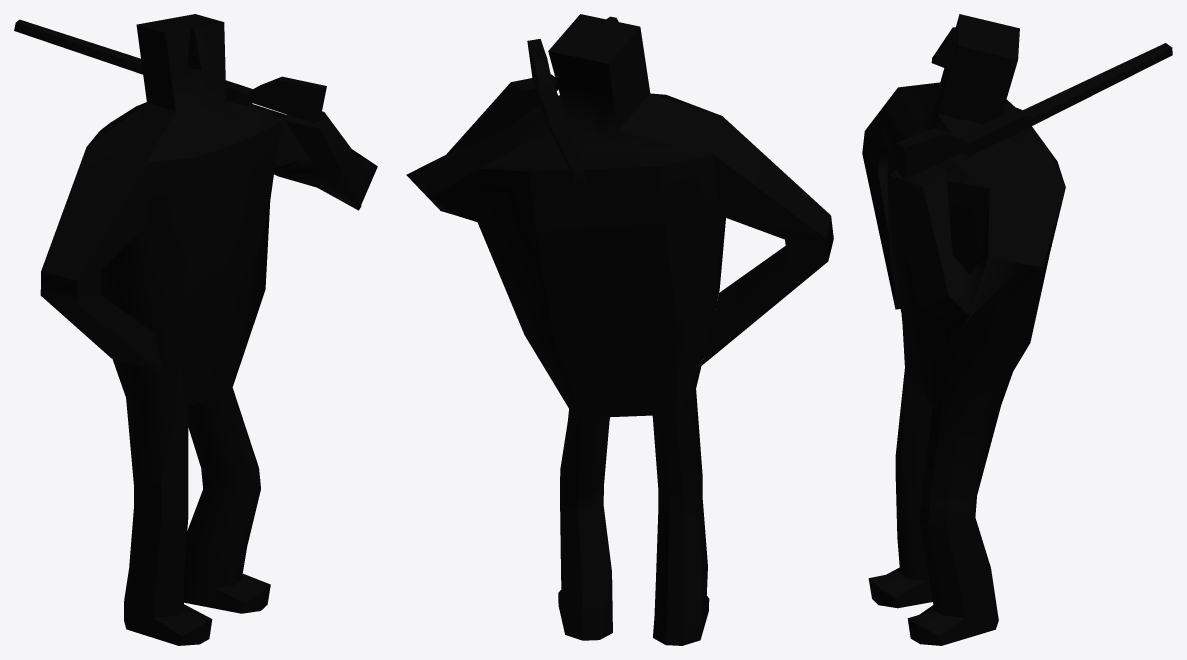
Rendered from hunter_mesh.fbx.
3 renders of one model, left to right at view 1: azimuth 30°, elevation 25°; view 2: azimuth 150°, elevation 25°; view 3: azimuth 270°, elevation 25°, orthographic. The views are drawn at different scales.
Visible parts, largest first — view 1: hunter; view 2: hunter; view 3: hunter.
Part boxes in pixels (bbox=[...]): hunter: bbox=[14, 14, 377, 645]; hunter: bbox=[406, 14, 833, 645]; hunter: bbox=[862, 14, 1172, 645].
Size of the model in its own units: 0.7456 by 1.12 by 0.533.
